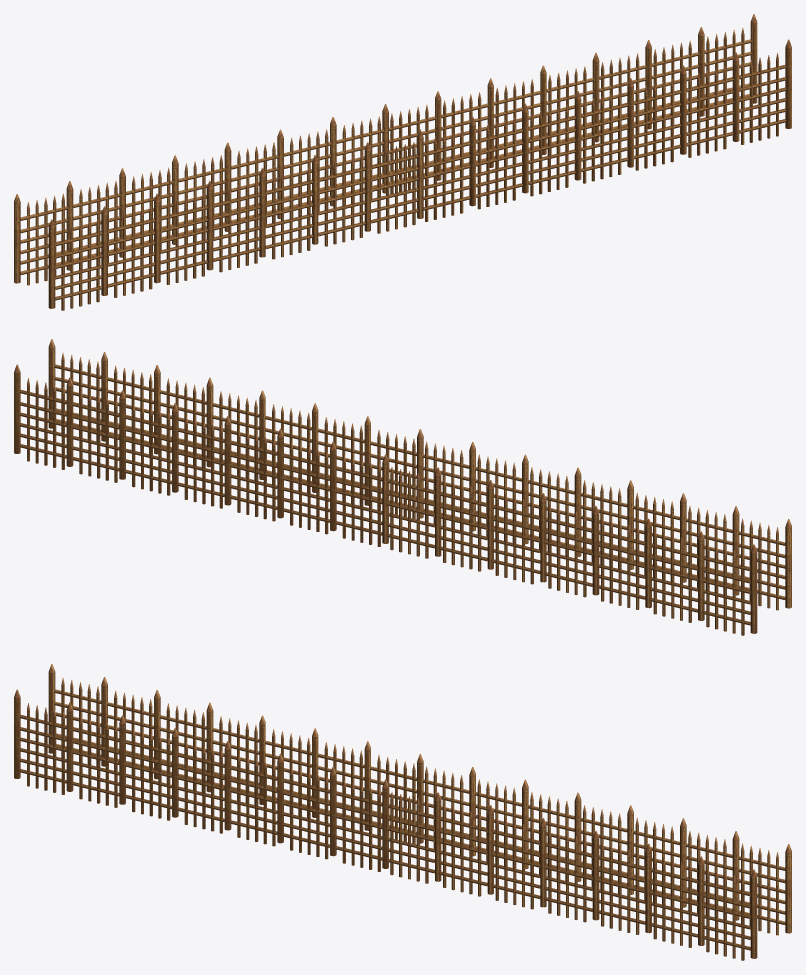
Rendered from maya_pali_long.dae.
3 views of the same model, one above another, from view 1: azimuth 30°, elevation 25°; view 2: azimuth 150°, elevation 25°; view 3: azimuth 330°, elevation 25° (orthographic).
Parts seen in each view (by area): view 1: pali_longo; view 2: pali_longo; view 3: pali_longo.
Part boxes in pixels (x1,y1,x2,y2): pali_longo: [14, 14, 791, 310]; pali_longo: [14, 339, 791, 635]; pali_longo: [14, 664, 791, 960].
Size of the model in its own units: 32.68 by 2.89 by 3.93.
